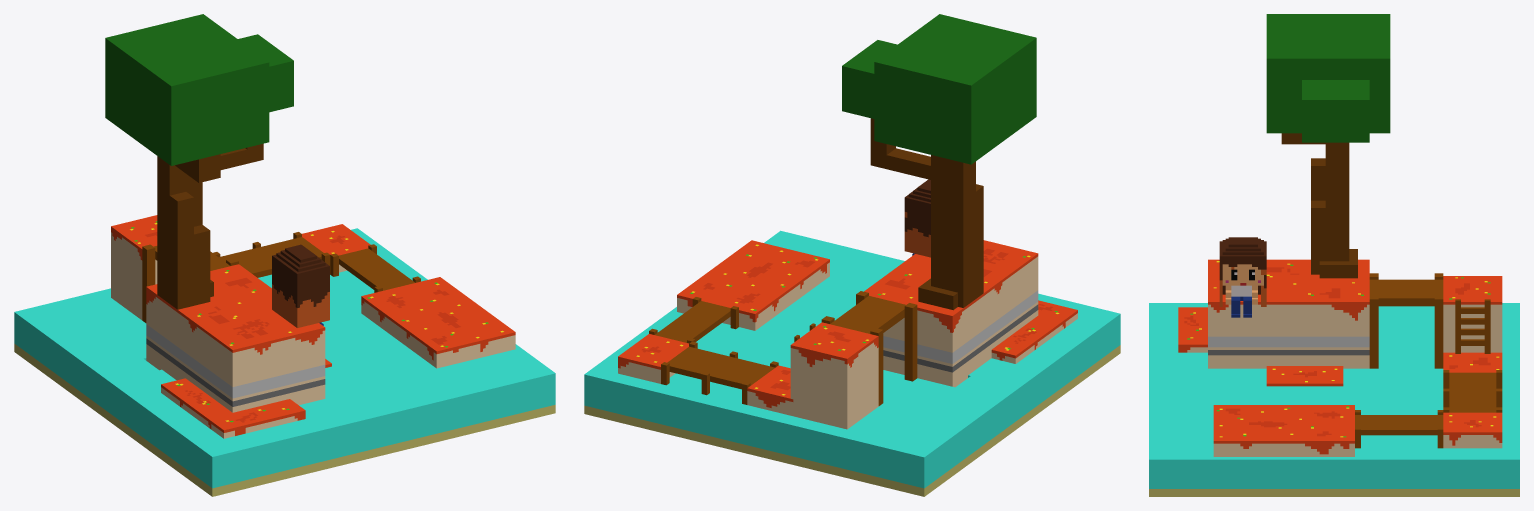
File: CalmWorld_GLTF.gltf
3 views of the same model, side by side, from view 1: azimuth 30°, elevation 25°; view 2: azimuth 150°, elevation 25°; view 3: azimuth 270°, elevation 25° (orthographic). The views are drawn at different scales.
Parts seen in each view (by area): view 1: Mesh_0.001; view 2: Mesh_0.001; view 3: Mesh_0.001.
Part boxes in pixels (x1,y1,x2,y2): Mesh_0.001: (14, 14, 555, 496); Mesh_0.001: (584, 14, 1120, 496); Mesh_0.001: (1149, 14, 1519, 496).
Size of the model in its own units: 29.67 by 29.67 by 29.67.
Materials: 1 (1 with a texture image).
